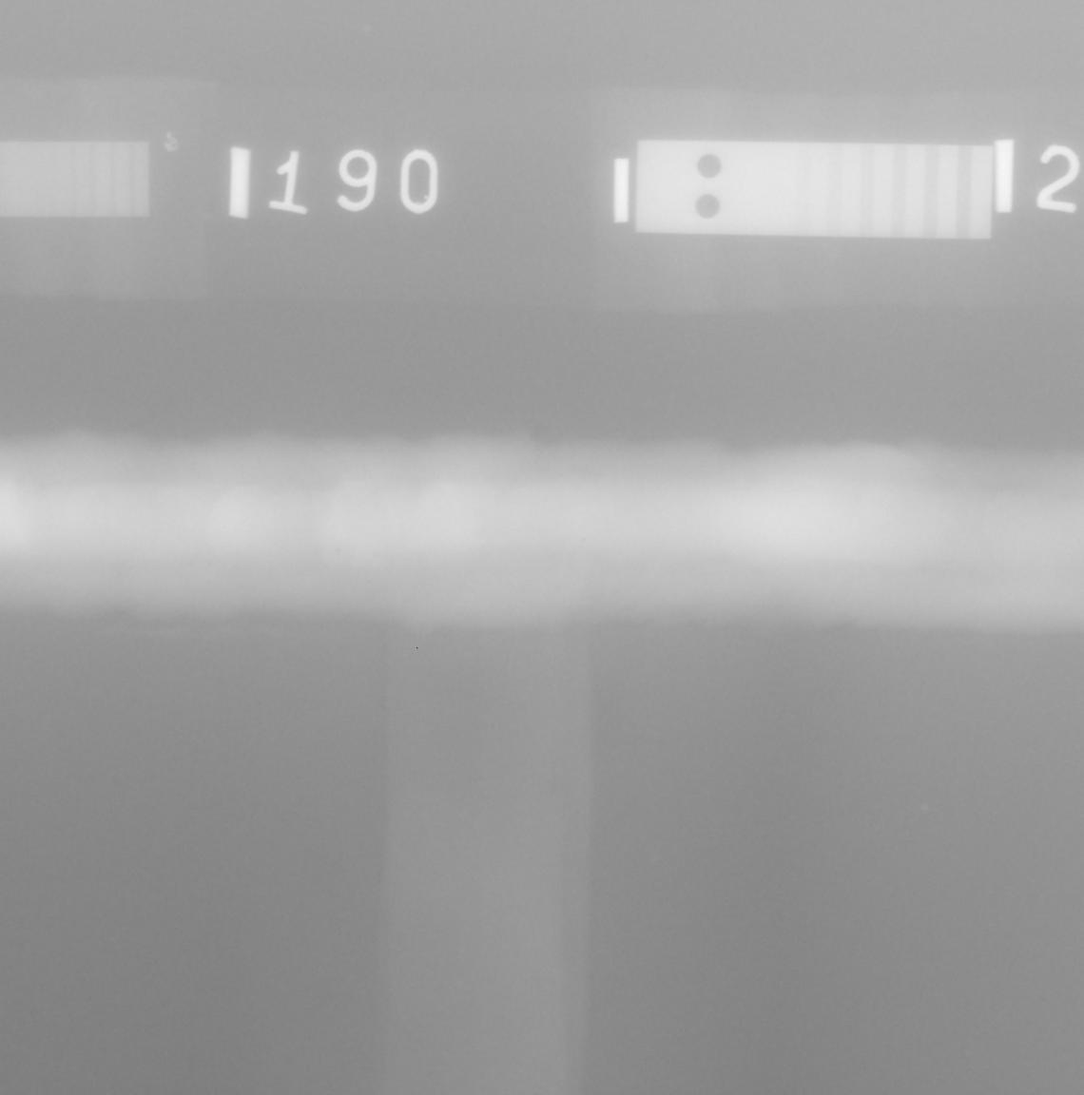Pore/Porosity: (336, 548, 341, 553), (581, 538, 586, 542), (922, 567, 925, 573)
Reference Standard 2: (636, 140, 994, 240)
